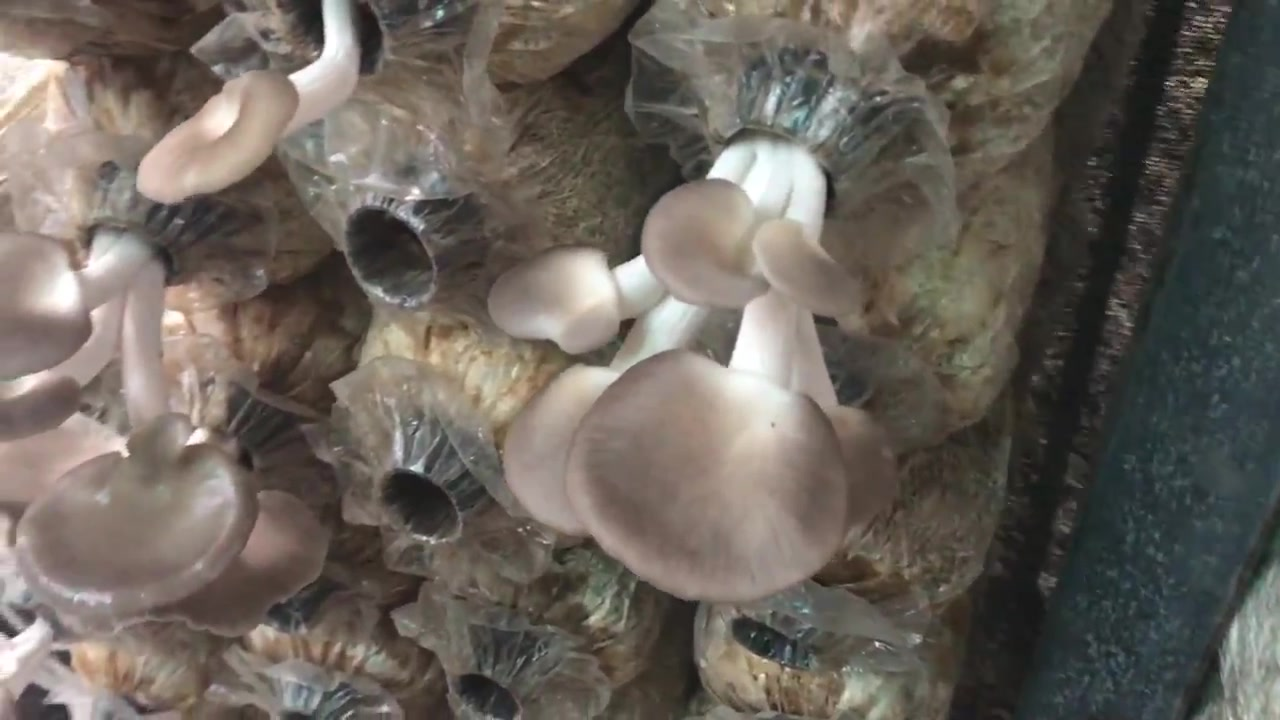nam: (492, 71, 900, 598), (1, 174, 263, 613), (136, 1, 436, 198)
